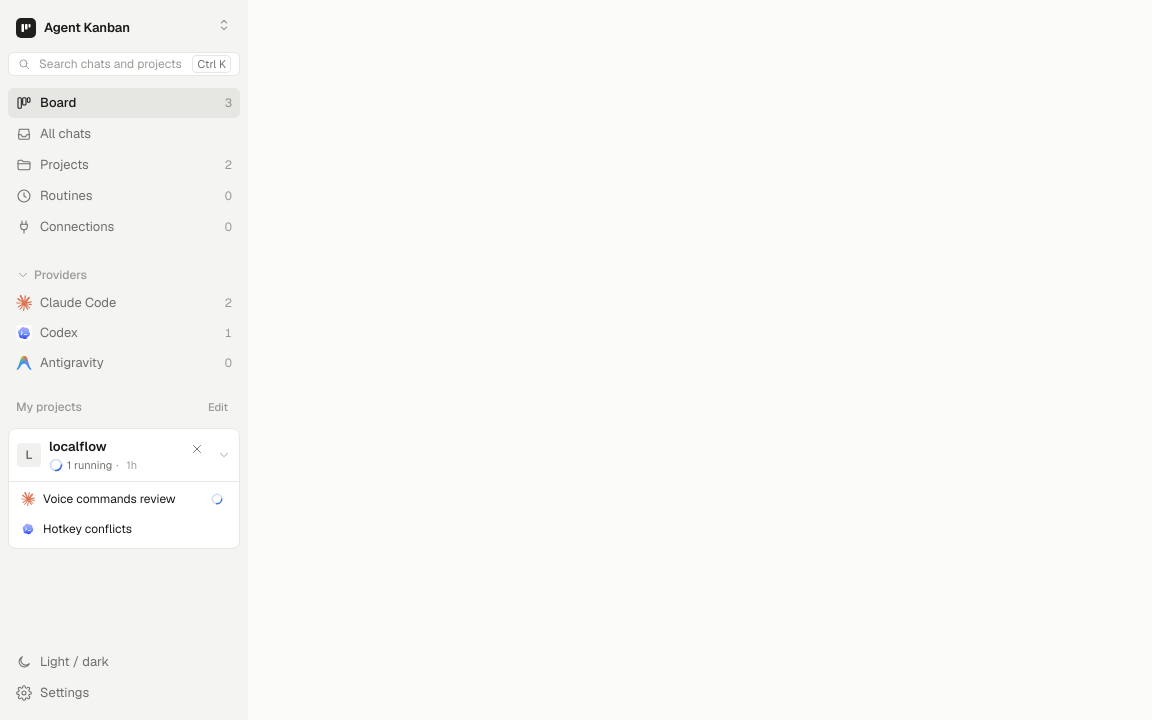
Test: Global search › matches projects by name and chats by title, with the match highlighted; hidden projects are left out
The width and height of the screenshot is (1152, 720).
Step 1. Press k
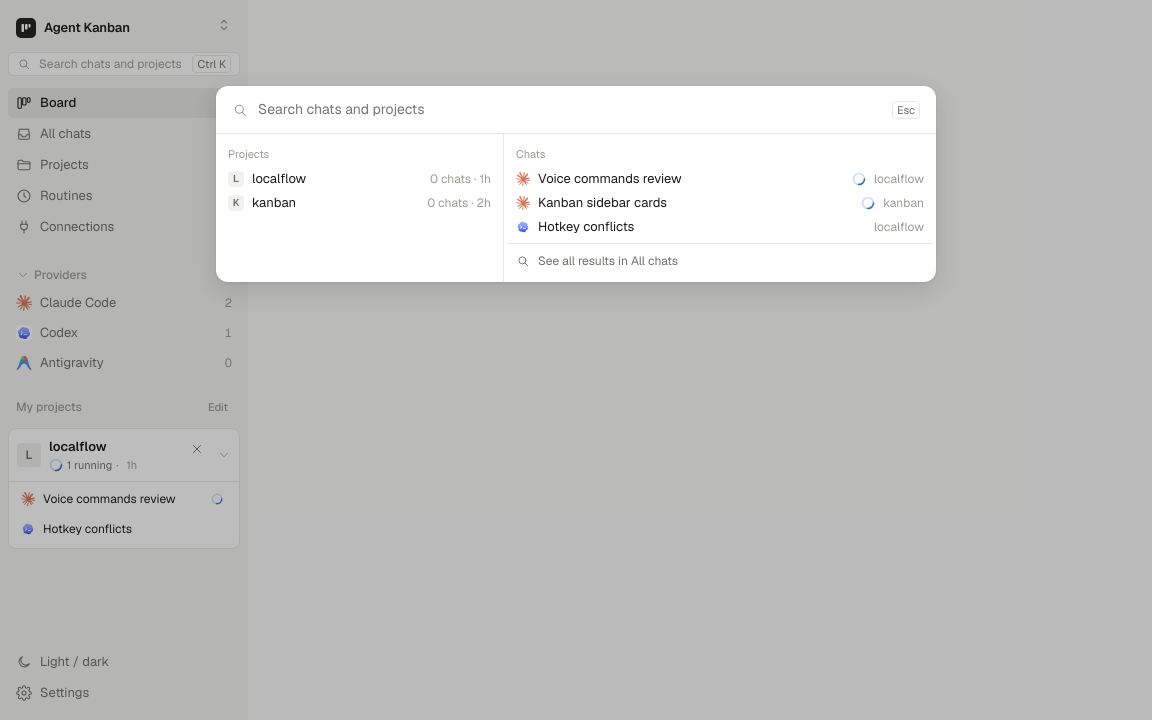
Step 2. Type "voice" into the dropdown named "Search chats and projects" → {"x": 570, "y": 110}, box [256,98,884,121]
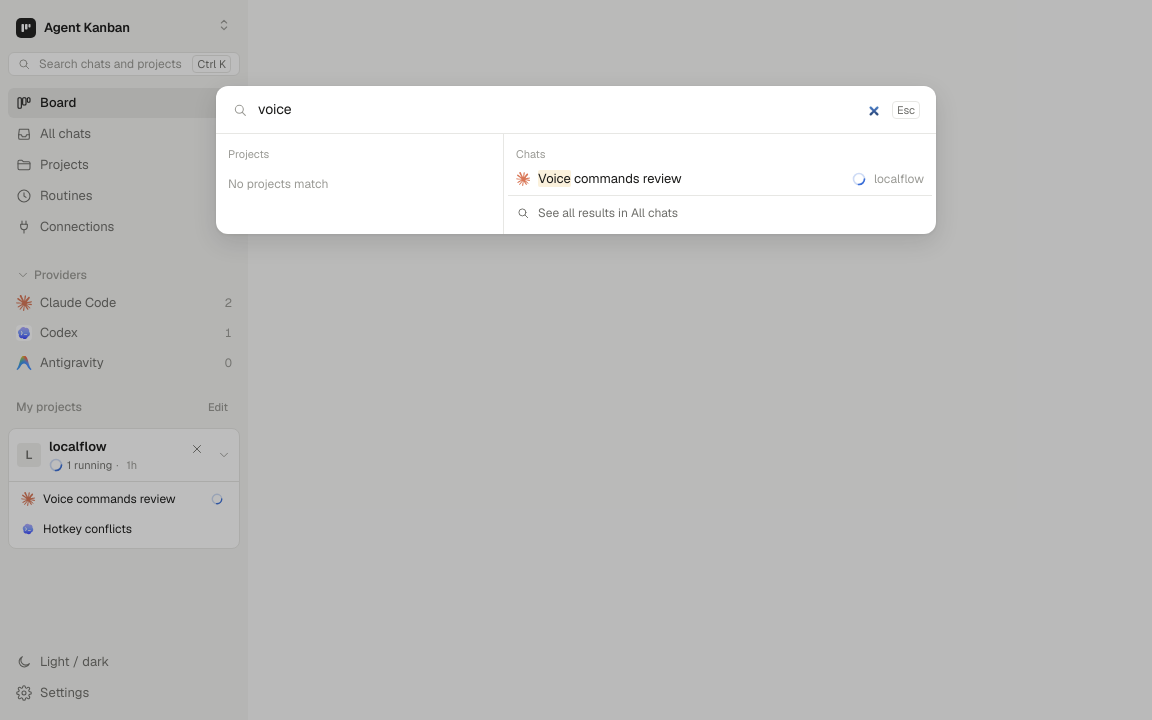
expect the text "Voice" is shown: met, box [538,170,571,187]
Step 3. Replace the text in the dropdown named "Search chats and projects" with "flow" → {"x": 570, "y": 110}, box [256,98,884,121]
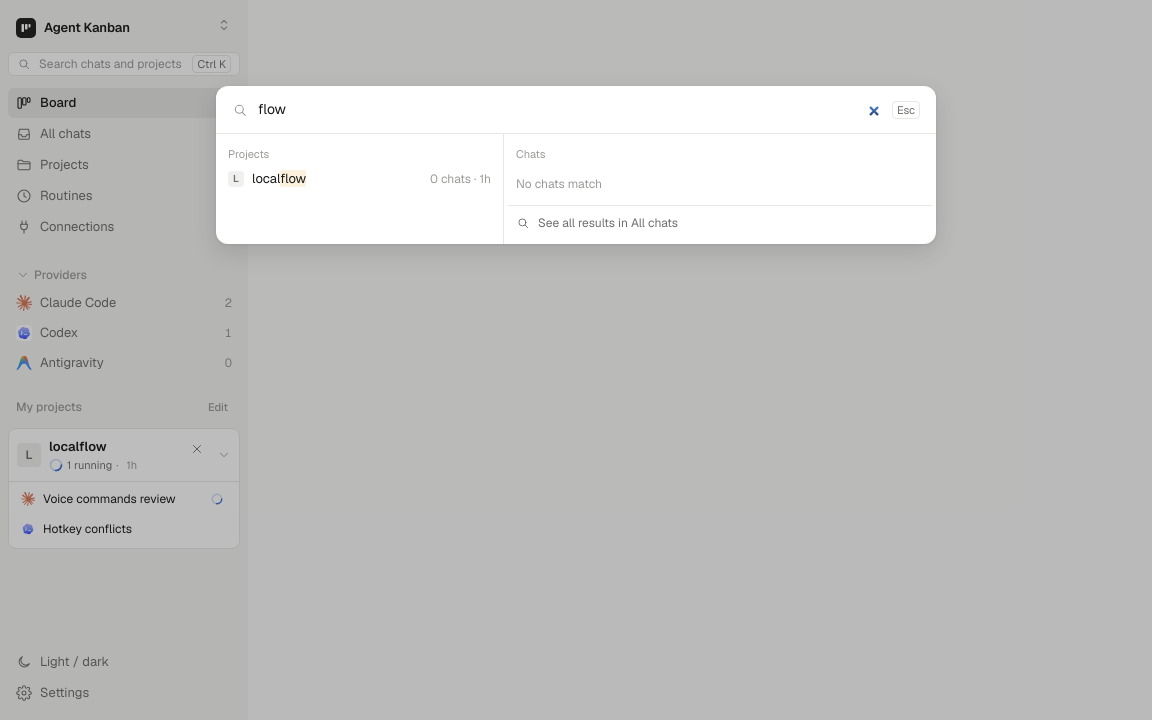
Step 4. Replace the text in the dropdown named "Search chats and projects" with "nothing like this" → {"x": 570, "y": 110}, box [256,98,884,121]
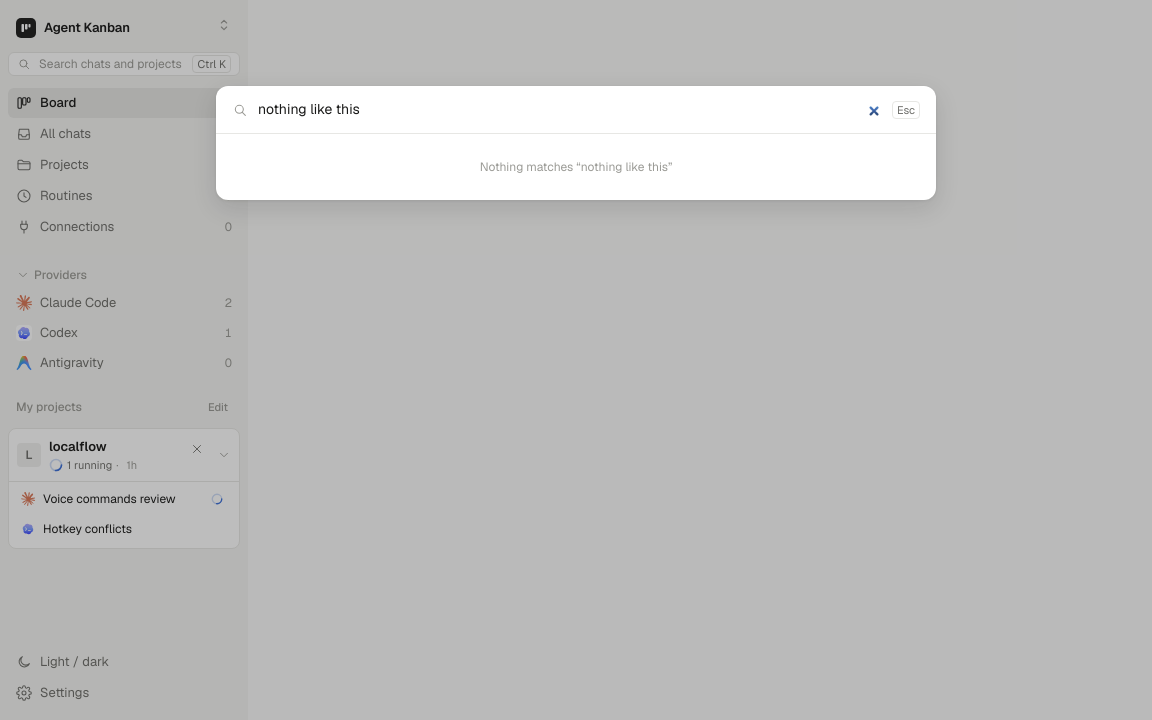
expect the text "Nothing matches “nothing like this”" is shown: met, box [480,159,672,175]
